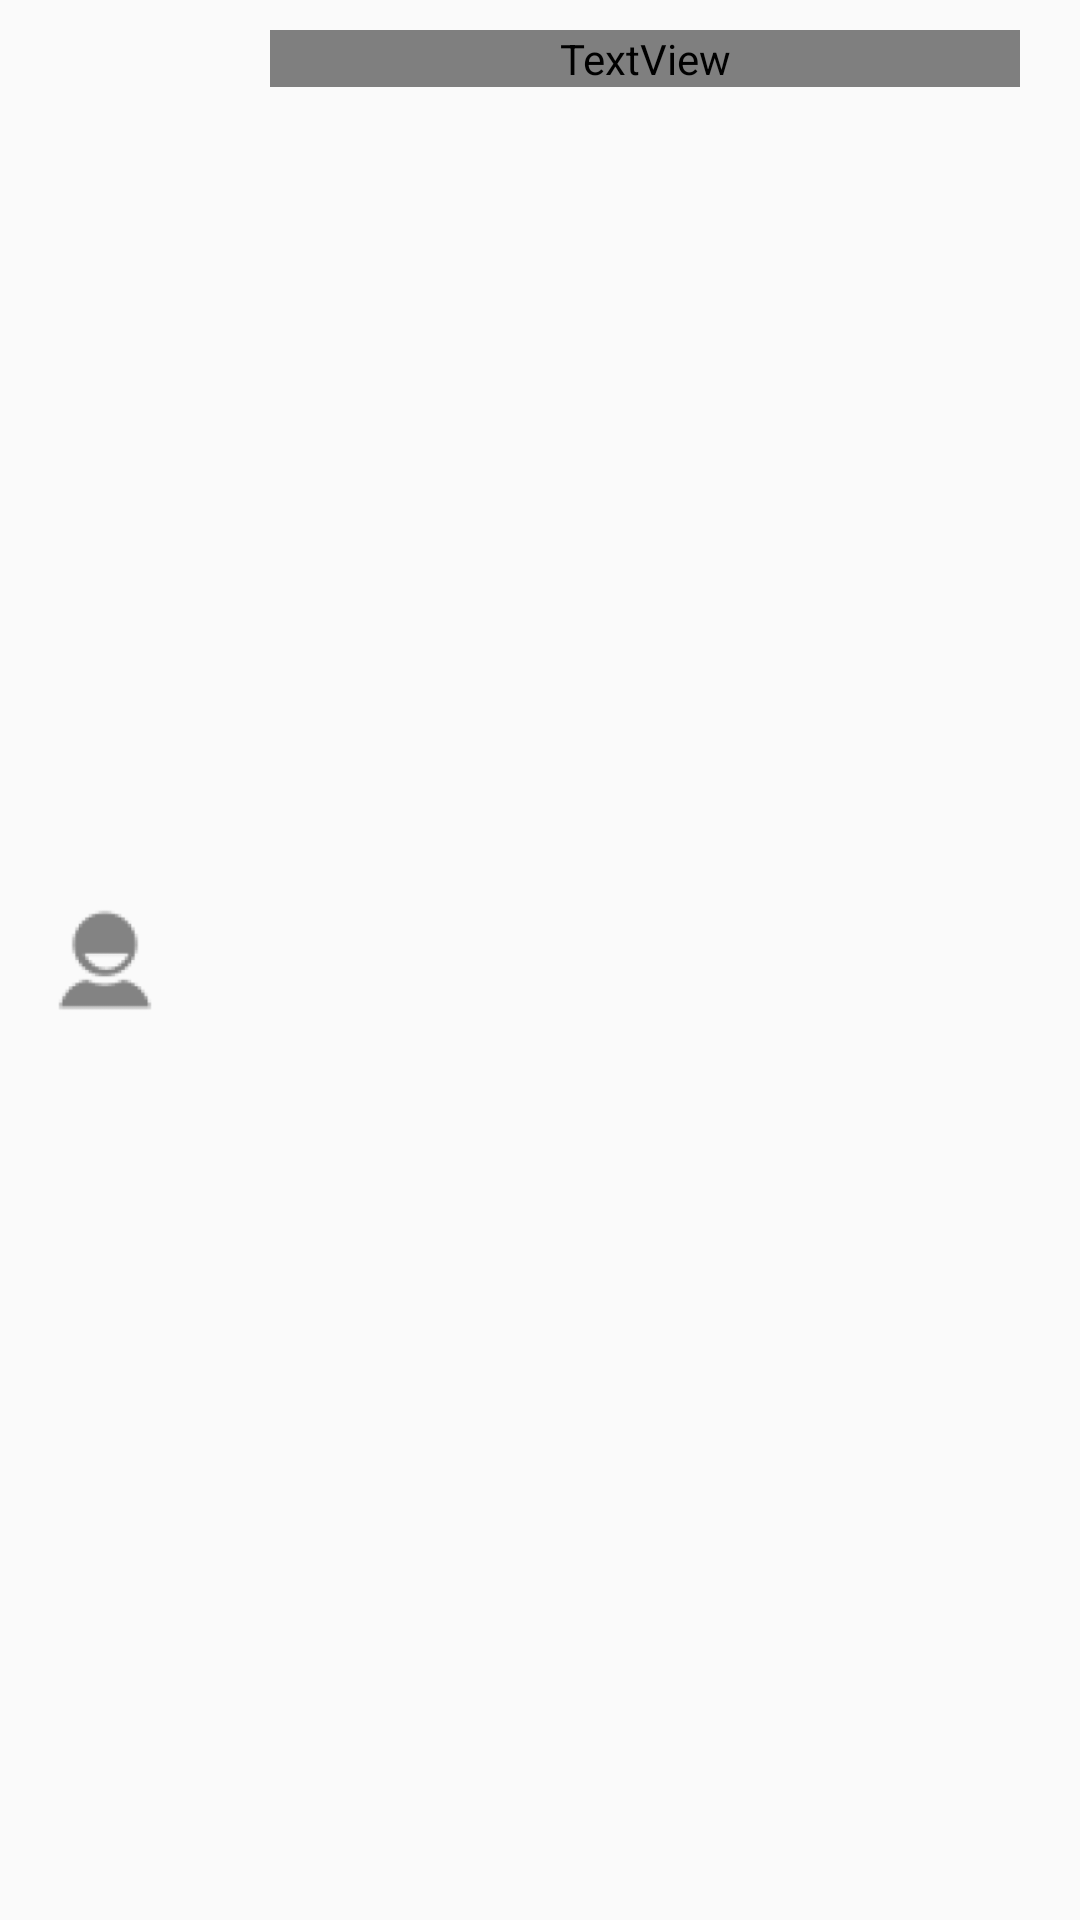

Icon click points for this 1080px x 1920px phone screenshot, format point (x, y):
user: point (105, 960)
